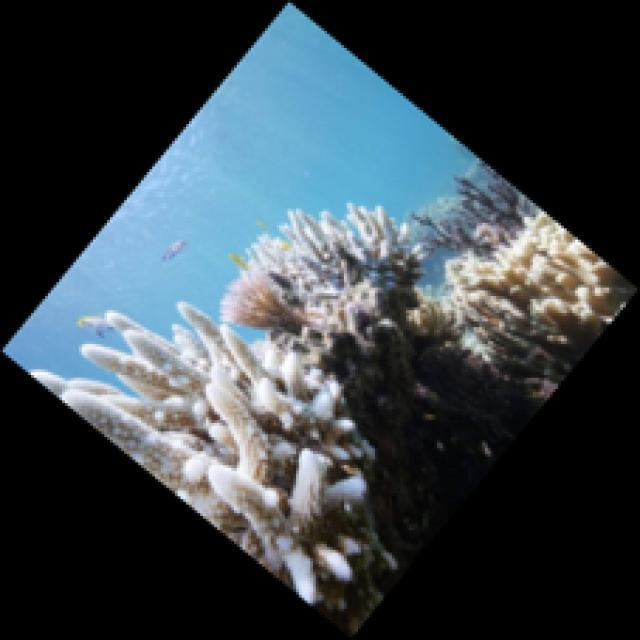Bleached: (30, 303, 400, 613), (446, 210, 640, 343), (236, 203, 422, 335), (222, 274, 306, 336)
